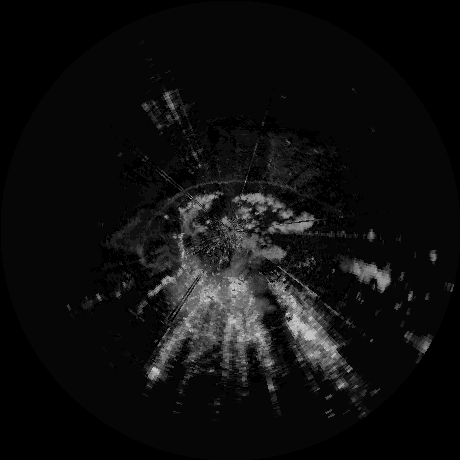frontgust: (150, 178, 298, 202)
